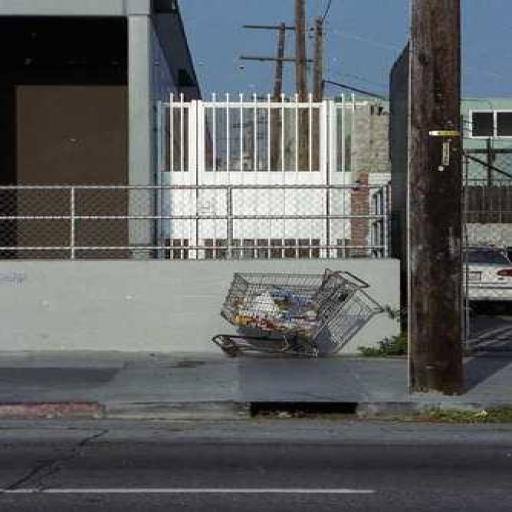shopping_cart: (210, 268, 374, 364)
